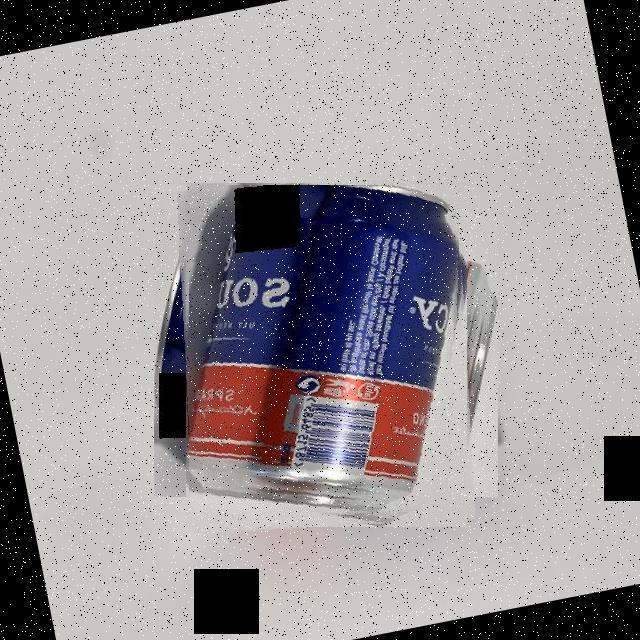recyclable: (189, 185, 460, 516)
